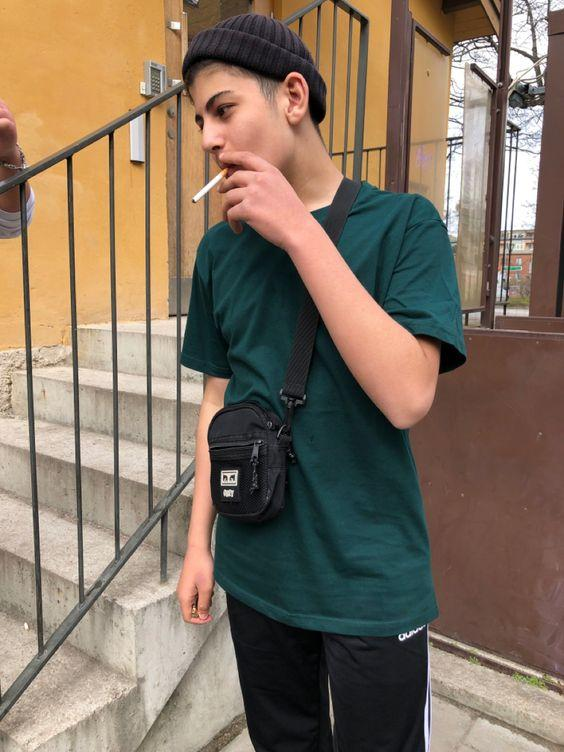cigarette: (192, 169, 225, 203)
